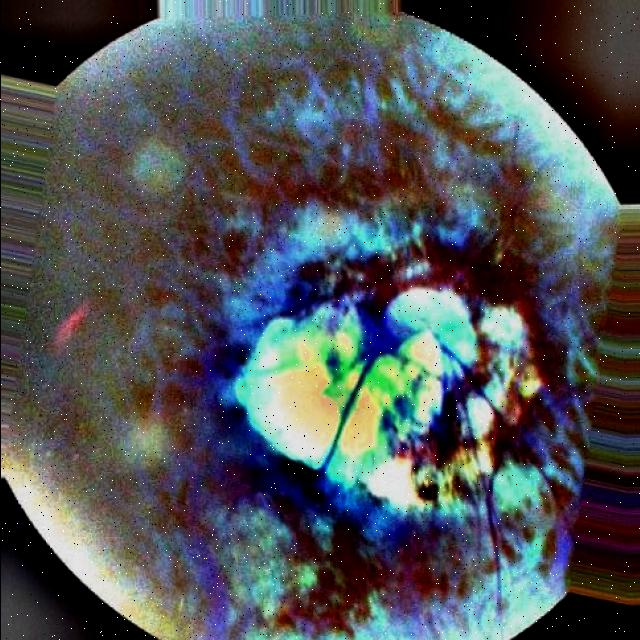Optic Disk: (225, 290, 493, 514)
